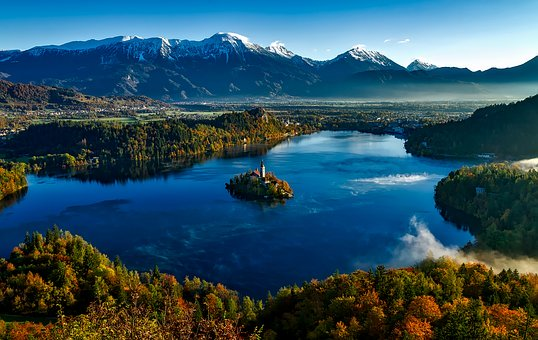field: (10, 85, 537, 157)
forest: (12, 247, 532, 340)
lake: (40, 141, 463, 269)
mountain: (8, 40, 536, 85)
sky: (2, 1, 538, 49)
